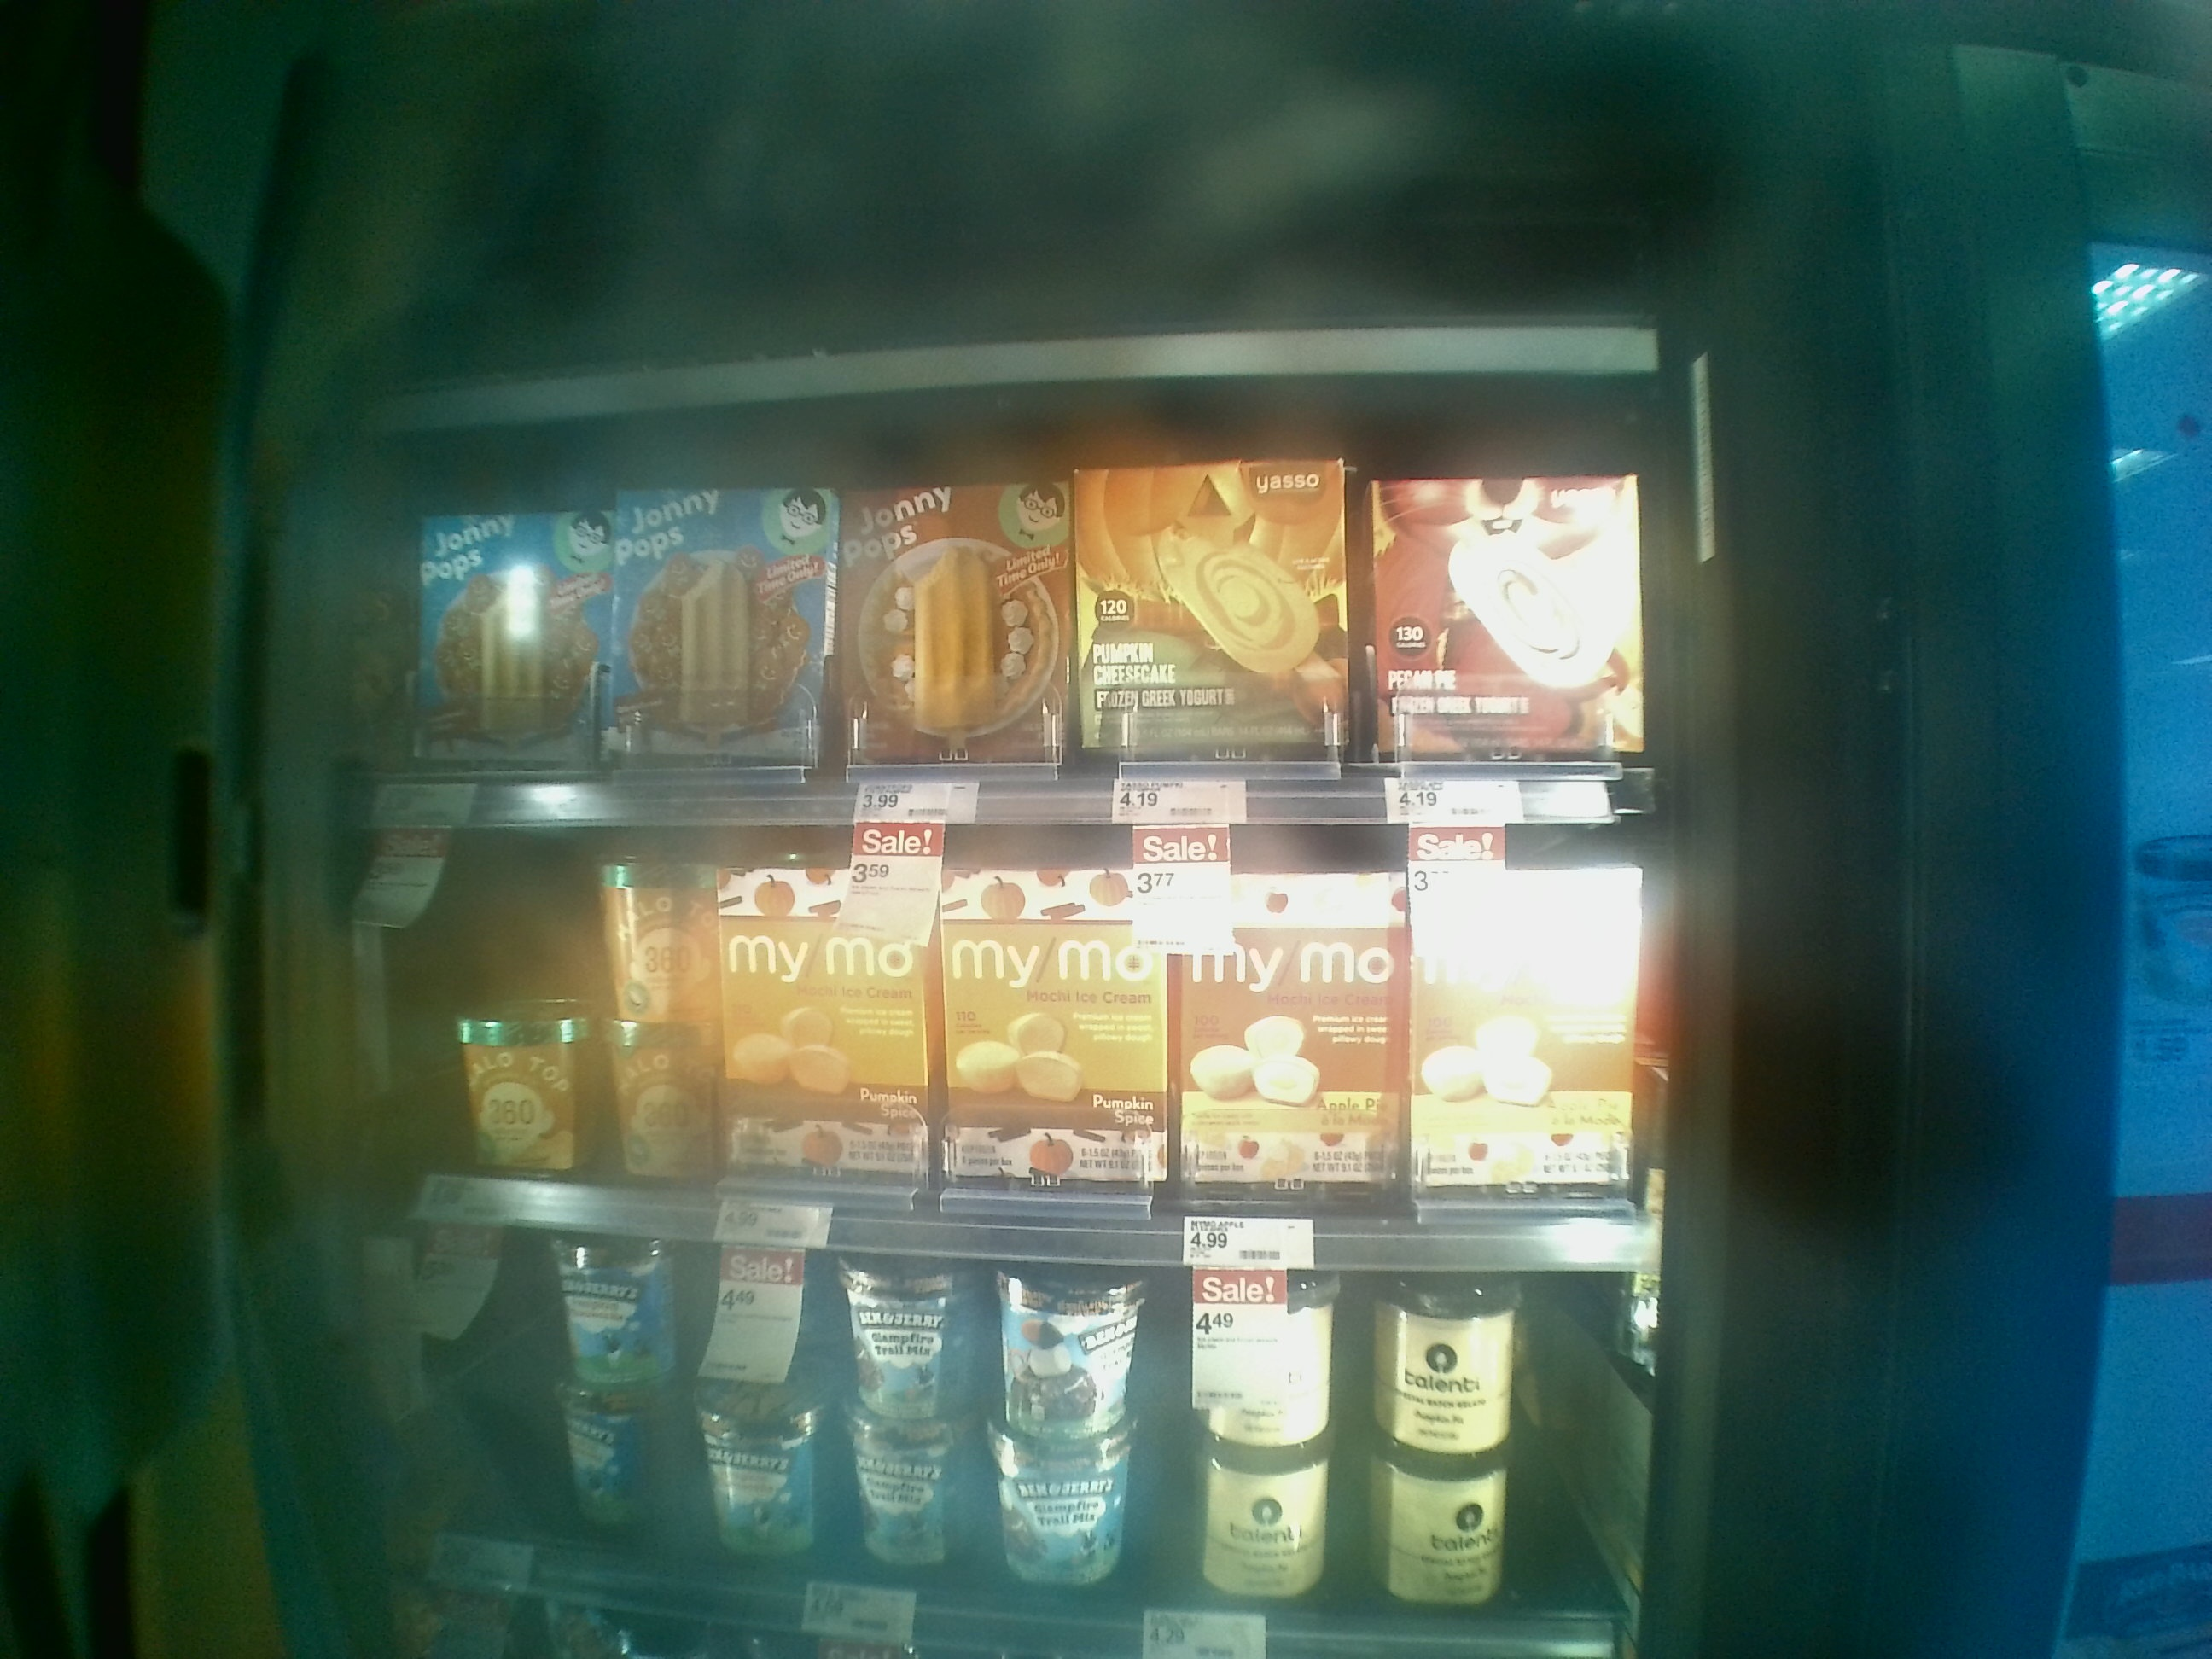shelf: (333, 826, 1674, 1277), (341, 465, 1684, 838)
